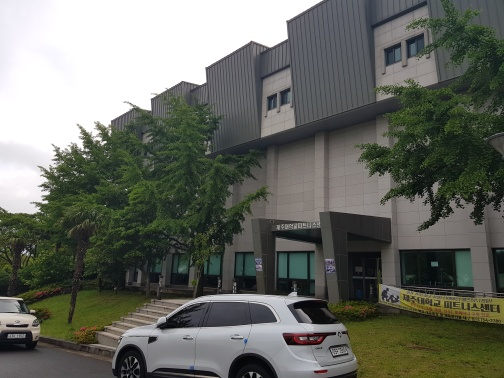Gym: (115, 4, 497, 296), (202, 8, 384, 151), (242, 190, 395, 293)
